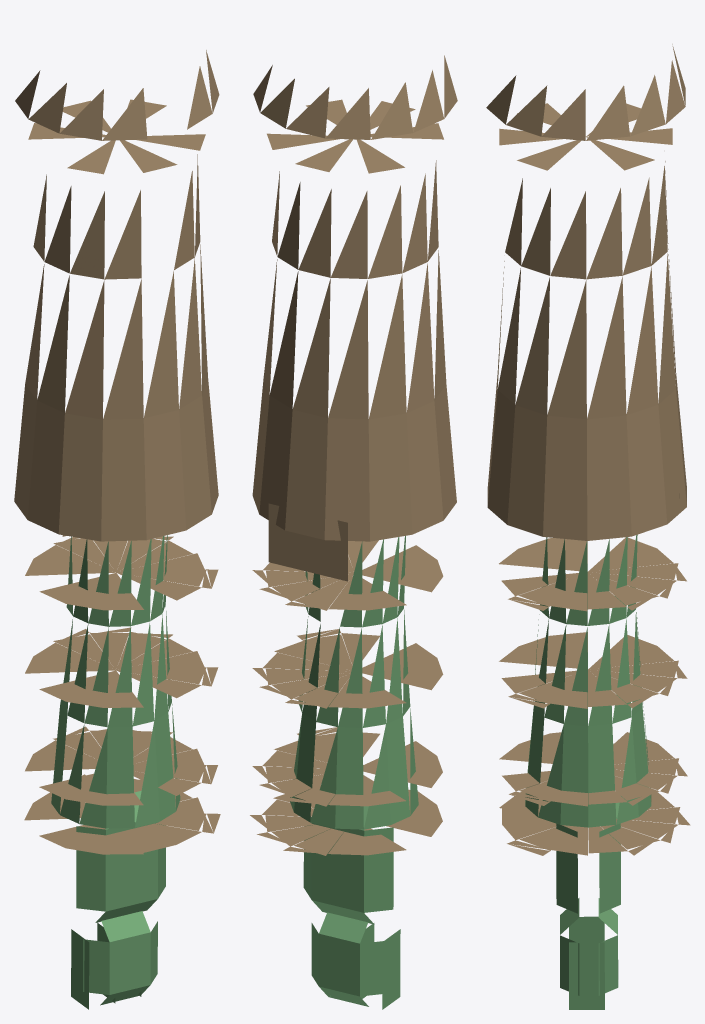
The model's file is goblin-ArmL.glb.
3 renders of one model, left to right at view 1: azimuth 30°, elevation 25°; view 2: azimuth 150°, elevation 25°; view 3: azimuth 270°, elevation 25°, orthographic.
Visible parts, largest first — view 1: ArmL_arm-l.002, ArmL_fore-l.001; view 2: ArmL_arm-l.002, ArmL_fore-l.001; view 3: ArmL_arm-l.002, ArmL_fore-l.001.
Part boxes in pixels (x1,y1,x2,y2): ArmL_arm-l.002: [14, 50, 220, 854]; ArmL_fore-l.001: [51, 535, 180, 1009]; ArmL_arm-l.002: [250, 55, 457, 855]; ArmL_fore-l.001: [290, 536, 418, 1009]; ArmL_arm-l.002: [486, 44, 690, 855]; ArmL_fore-l.001: [525, 534, 651, 1009].
Bounding box in the file's own units: 0.1102 × 0.5613 × 0.1103.
